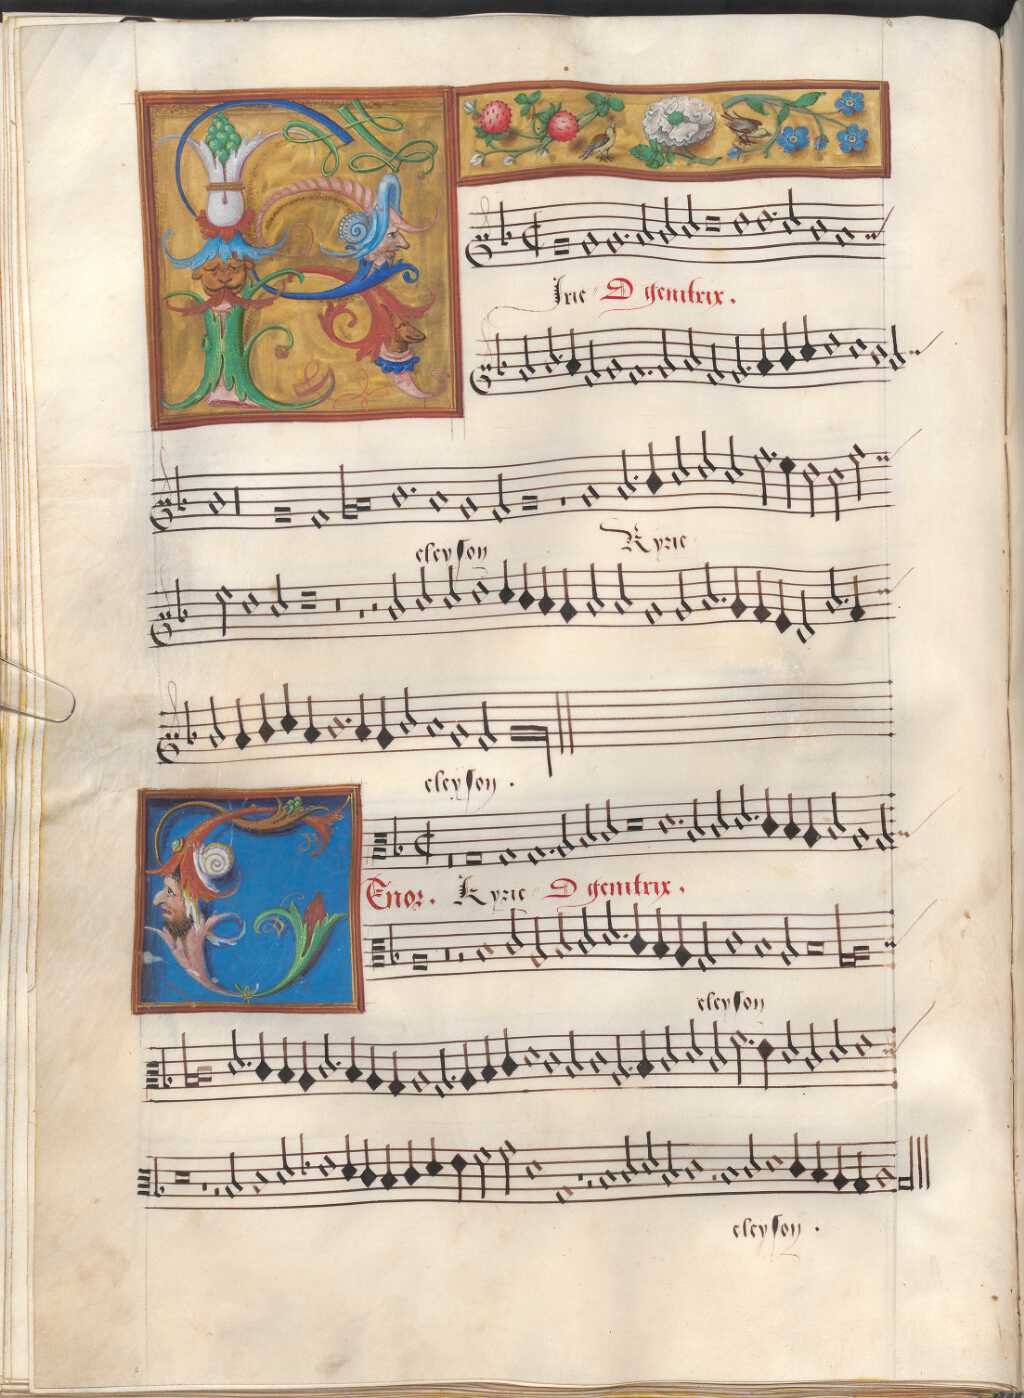barline: (552, 679, 579, 767)
flat_7: (178, 687, 201, 757)
g clef_9: (147, 710, 178, 766)
longa_9: (513, 710, 556, 788)
minim_10: (475, 688, 500, 760)
minim_7: (205, 685, 228, 758), (397, 677, 420, 744)
point: (338, 707, 354, 732)
semibreve_7: (324, 704, 347, 750)
semibreve_8: (423, 706, 448, 746)
semibreve_9: (447, 711, 473, 759)
semiminim_6: (279, 677, 299, 744)
semiminim_7: (255, 686, 277, 751)
semiminim_8: (231, 691, 253, 761), (302, 687, 323, 752), (354, 685, 372, 750)
semiminim_9: (374, 688, 396, 760)
